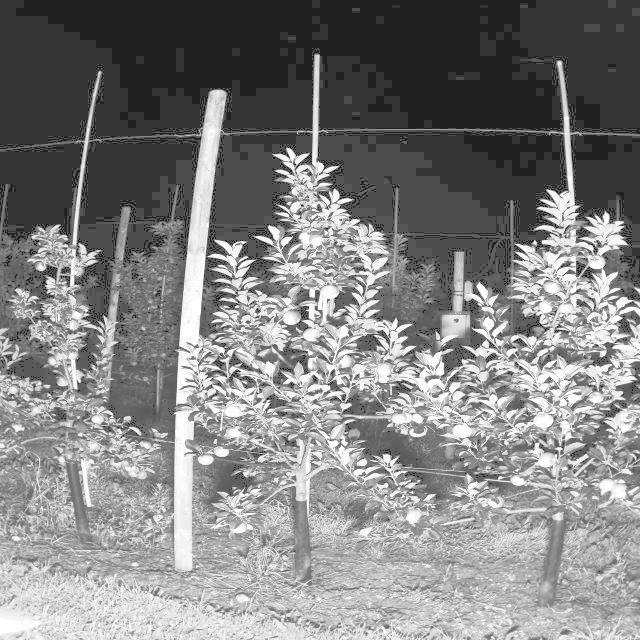Tree: (239, 147, 418, 592), (505, 191, 632, 605), (5, 222, 136, 552)
